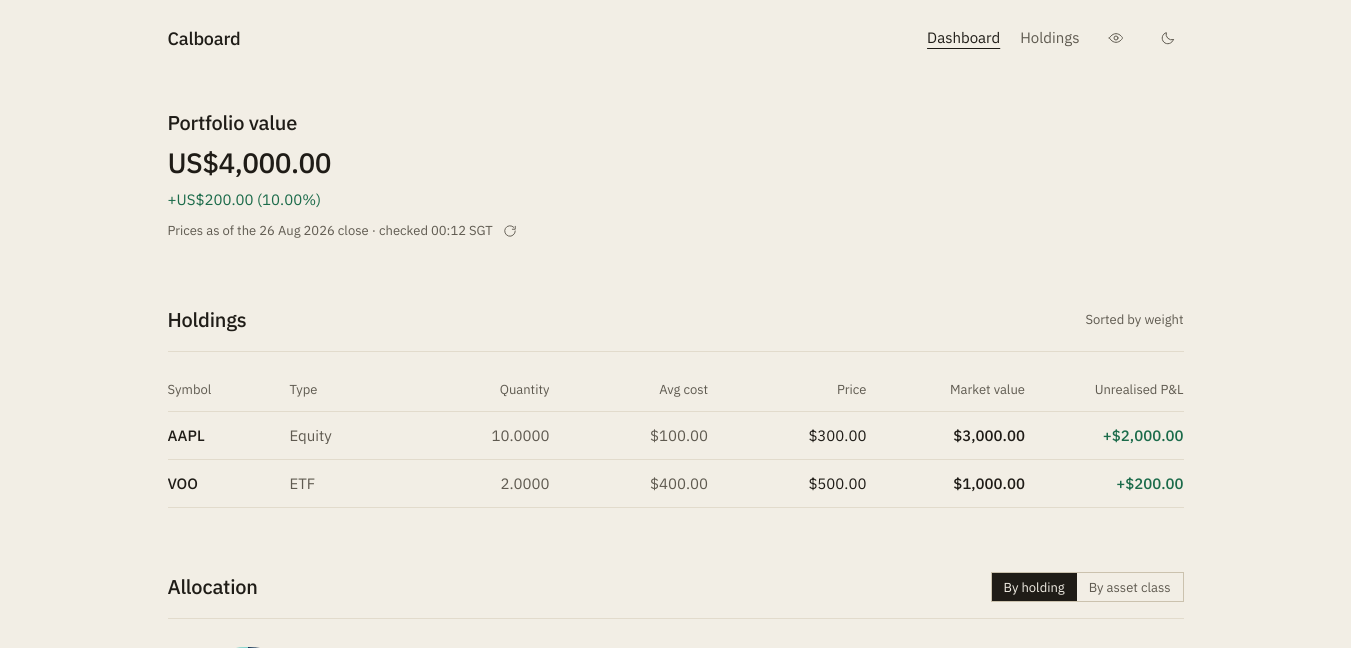
it: Dashboard — M1.5: privacy toggle › hides the value figure and the Unrealised P&L dollar figure, but keeps the P&L percentage visible
Click the button named "hide values" at (1116, 38), box [1100, 24, 1132, 52]
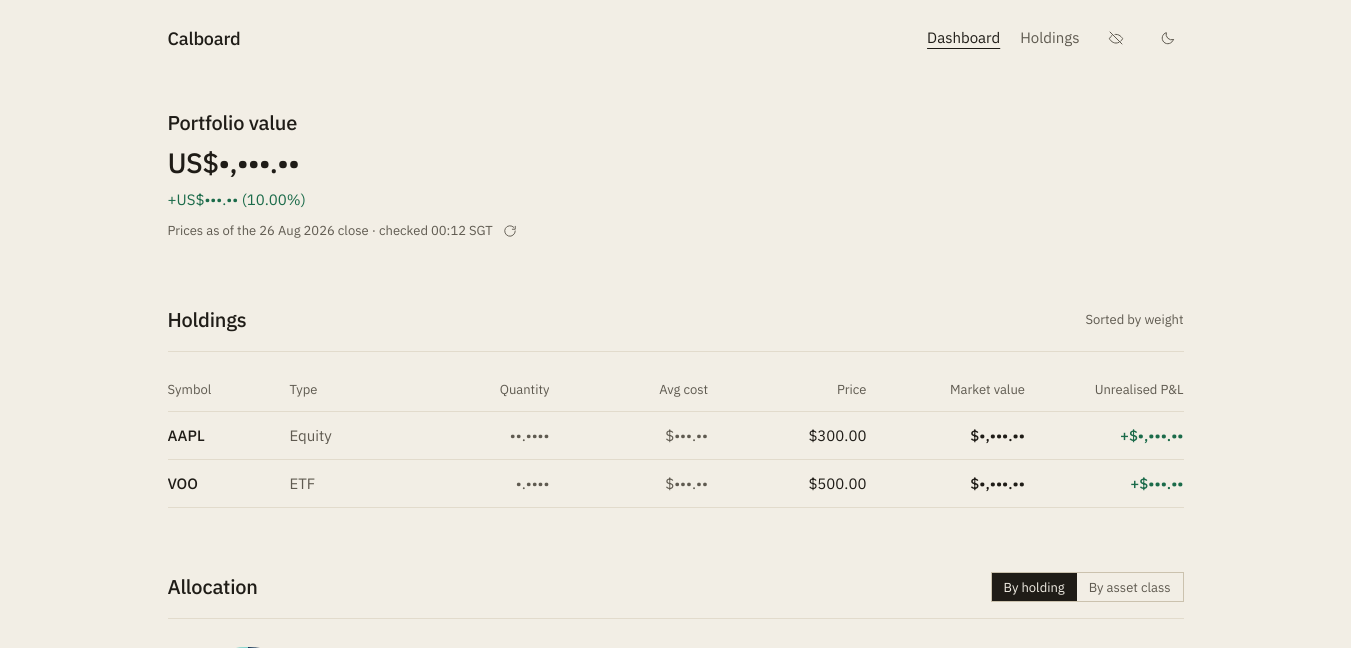
Check: the element that starts with "Portfolio value" shows "10.00%", box [168, 109, 517, 239]
Check: the text "200.00" is gone
Check: the text "•,•••.••" below "Portfolio value" is shown, box [218, 144, 299, 181]
